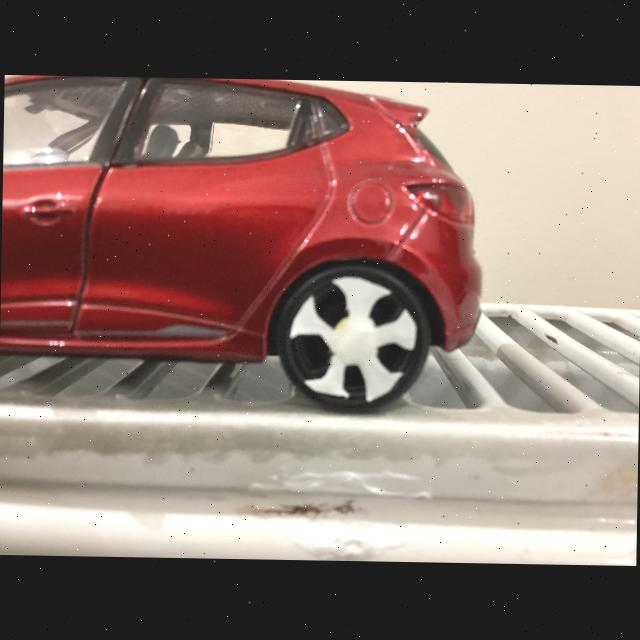Yanlis_Jant: (284, 272, 421, 404)
